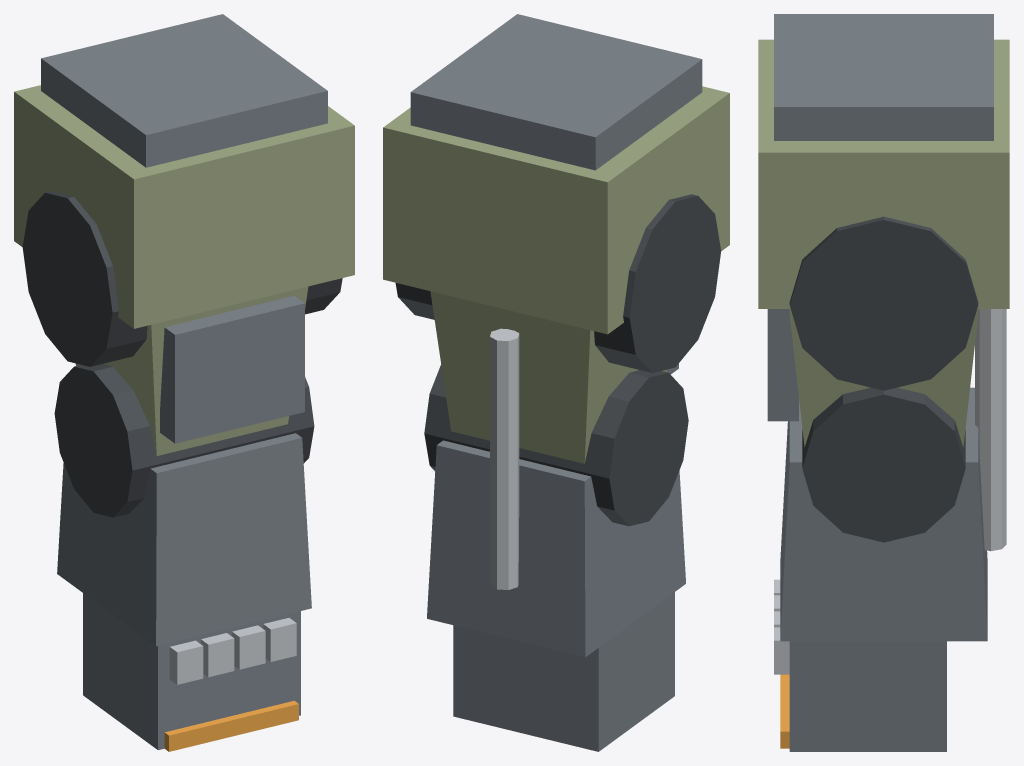
File: mech-hangar-and-battle-frames-assault-arm-08d29c84__26840.glb
3 views of the same model, side by side, from view 1: azimuth 30°, elevation 25°; view 2: azimuth 150°, elevation 25°; view 3: azimuth 270°, elevation 25° (orthographic). The views are drawn at different scales.
Parts seen in each view (by area): view 1: assault-arm, elbow (×4); view 2: assault-arm, elbow (×3); view 3: assault-arm, elbow (×4).
Part boxes in pixels (x1,y1,x2,y2): assault-arm: (14,14,354,455); elbow (×4): (54,364,314,751); assault-arm: (383,14,729,463); elbow (×3): (424,328,688,751); assault-arm: (758,14,1009,446); elbow (×4): (774,309,1006,751).
Size of the model in its own units: 0.9 by 2.3 by 0.8.
